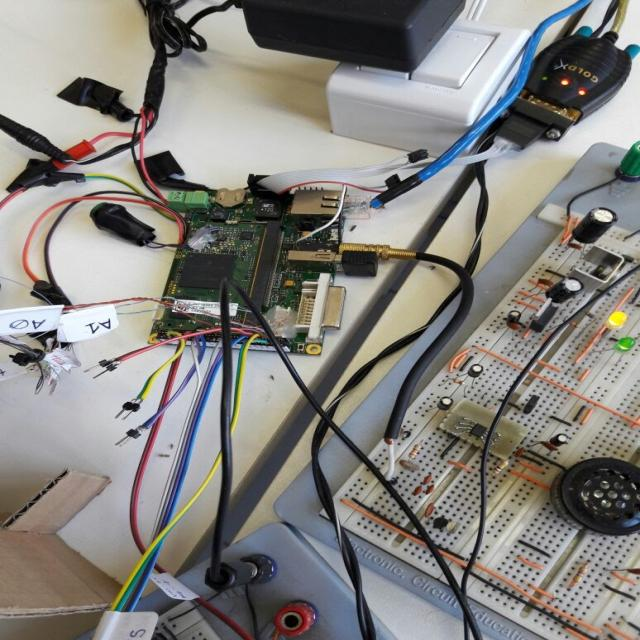som: (152, 219, 282, 317)
